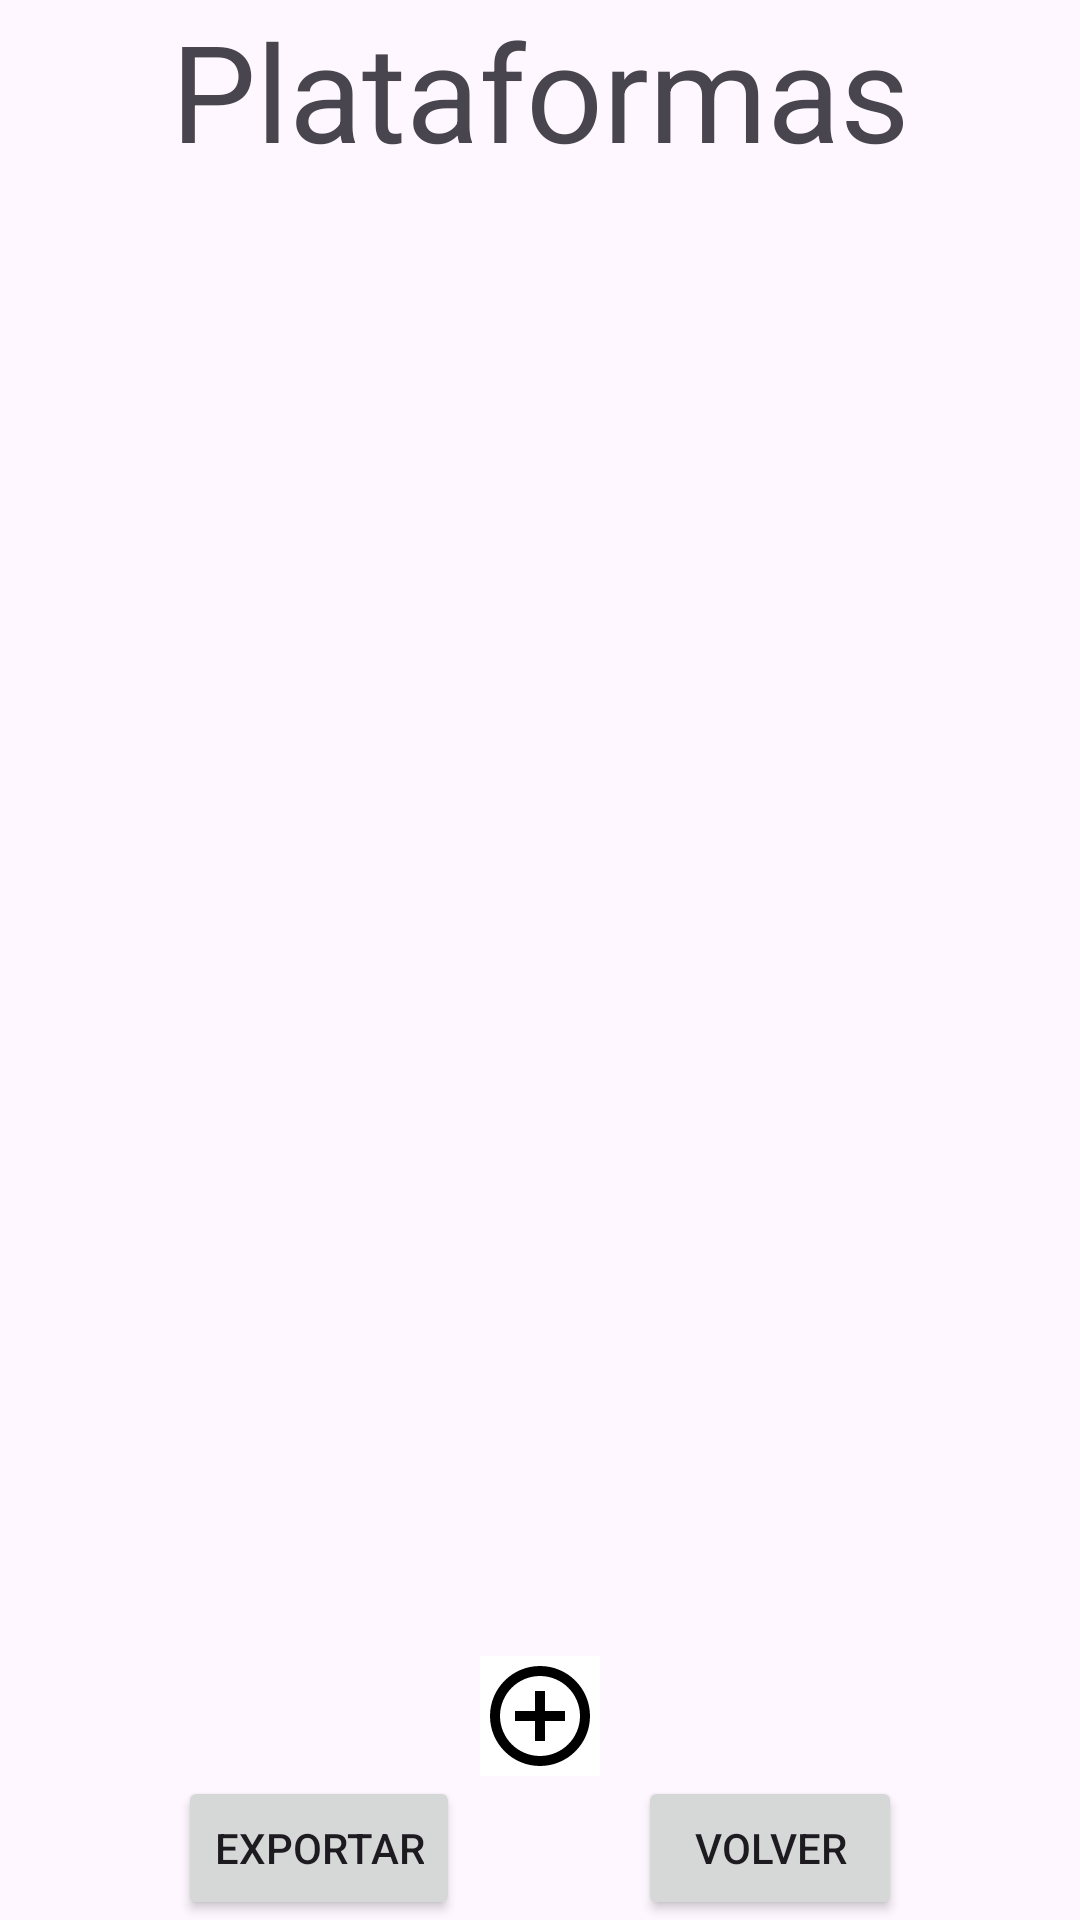

Icon bounding boxes for this 1080x1920 phone screenshot, format [x1, y1, x2, y2]:
add circle: [490, 1666, 590, 1766]
